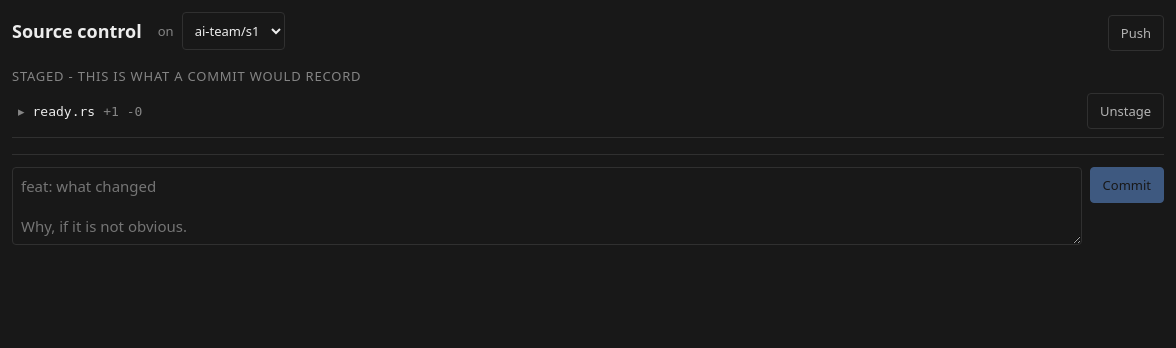
Test: commits a staged change and reports the sha
Type "feat: add the thing" into the text box named "commit message" at coordinates (547, 206), box [12, 167, 1082, 245]
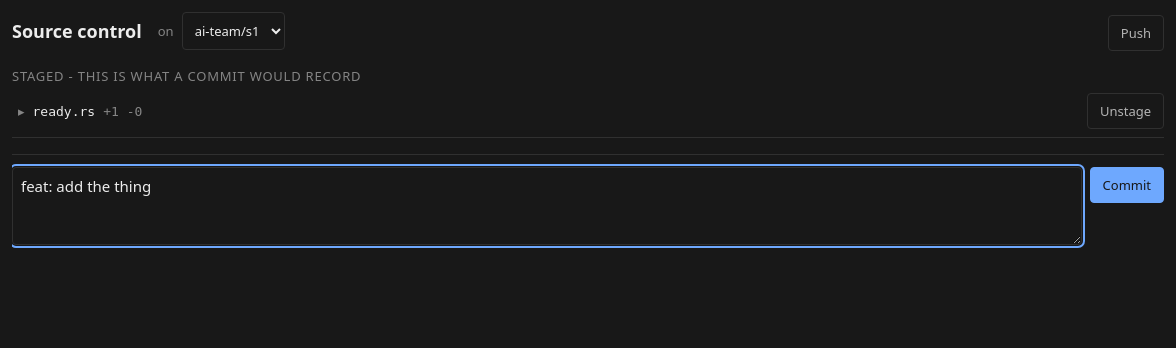
Click the button "Commit" at coordinates (1127, 185), box [1090, 167, 1164, 203]
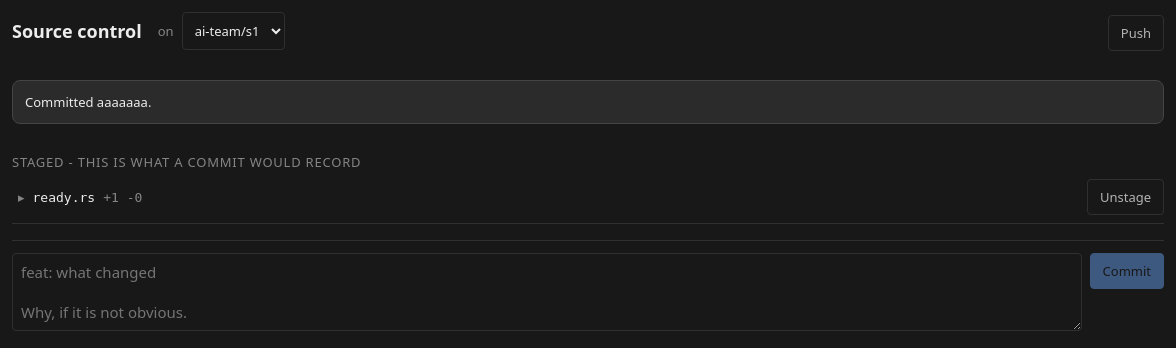
Expected: the text "Committed aaaaaaa." is shown, [12, 80, 1164, 124]
